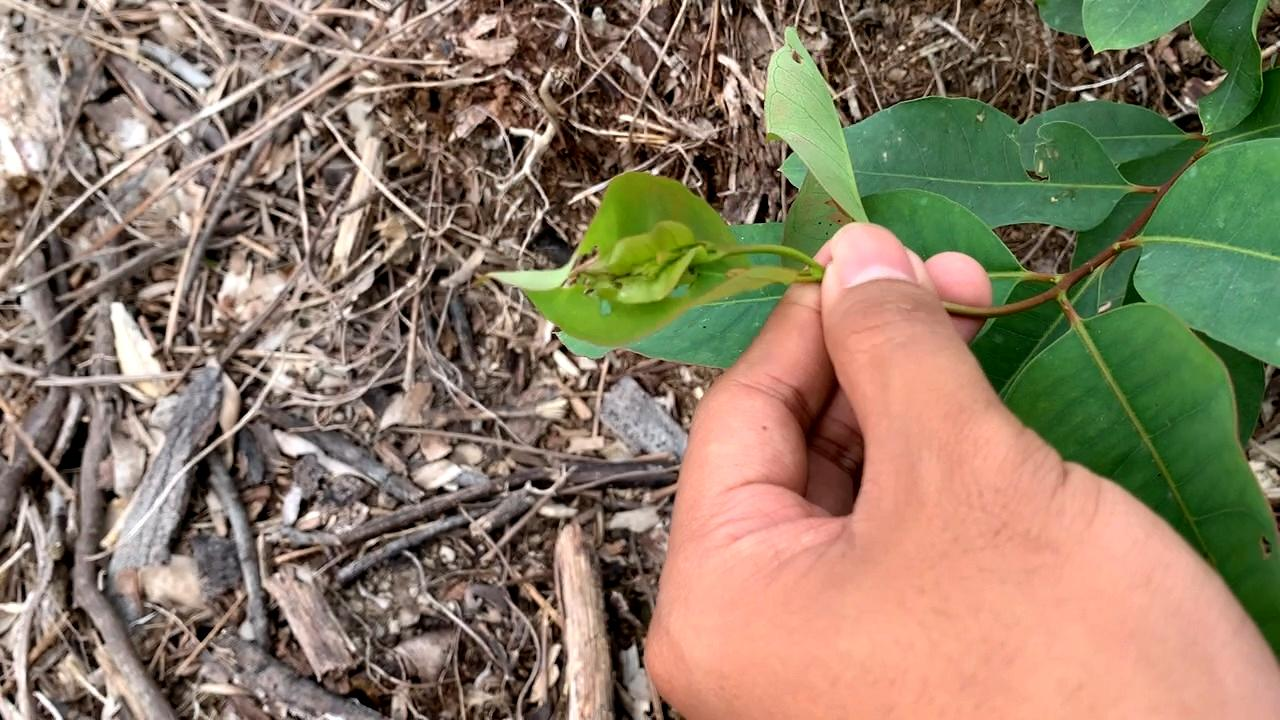Leaf Roller - Leaf: (500, 175, 804, 356)
